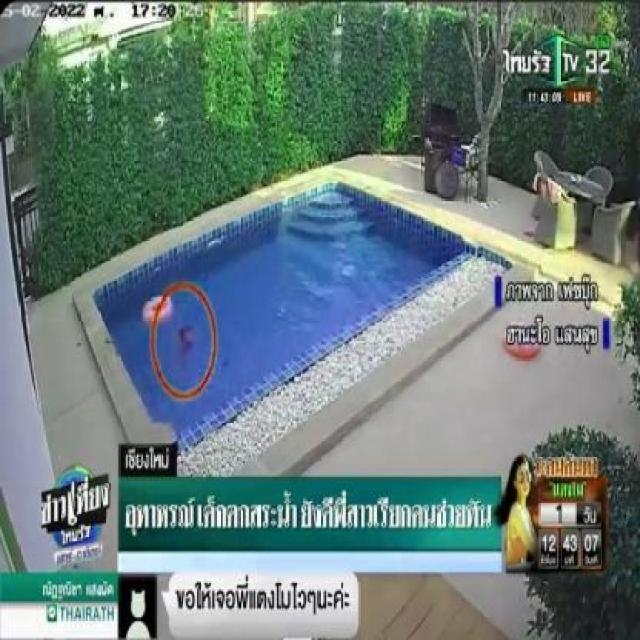drowning: (164, 318, 202, 378)
